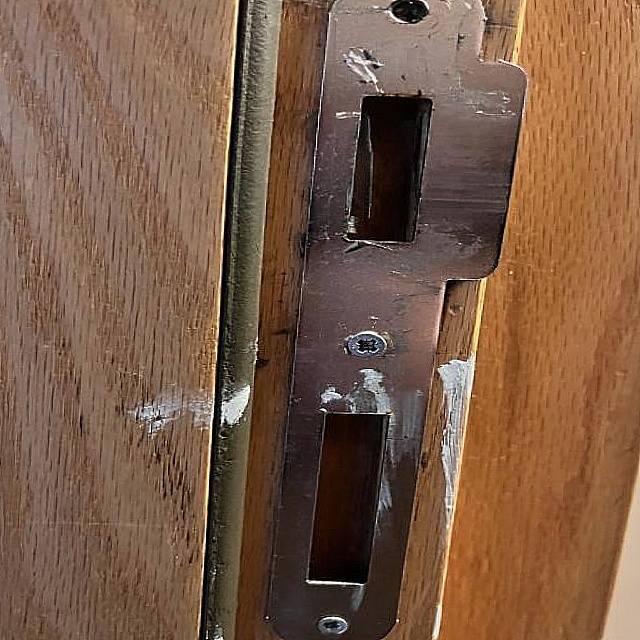pozidriv: (347, 333, 388, 358)
